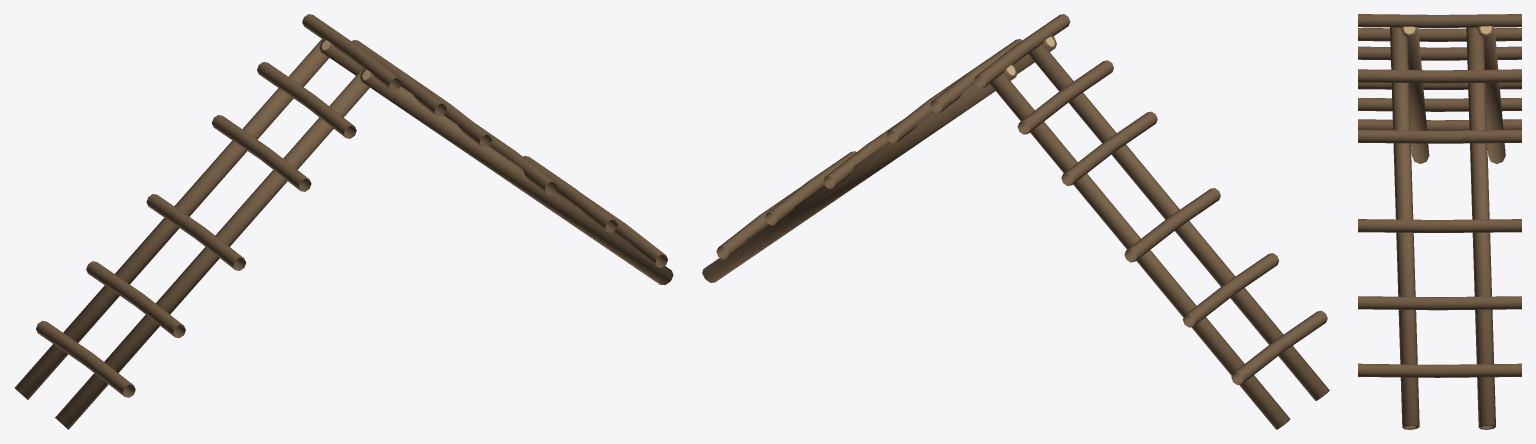
Rendered from rpgpp_ag_roof_support_01_9x4x3_roof_01b.fbx.
3 renders of one model, left to right at view 1: azimuth 30°, elevation 25°; view 2: azimuth 150°, elevation 25°; view 3: azimuth 270°, elevation 25°, orthographic. The views are drawn at different scales.
Parts seen in each view (by area): view 1: rpgpp_ag_roof_support_01_9x4x3_roof_01b; view 2: rpgpp_ag_roof_support_01_9x4x3_roof_01b; view 3: rpgpp_ag_roof_support_01_9x4x3_roof_01b.
Part boxes in pixels (left/top/right/bottom): rpgpp_ag_roof_support_01_9x4x3_roof_01b: left=14, top=14, right=673, bottom=429; rpgpp_ag_roof_support_01_9x4x3_roof_01b: left=702, top=14, right=1329, bottom=429; rpgpp_ag_roof_support_01_9x4x3_roof_01b: left=1358, top=14, right=1521, bottom=429.
Bounding box in the file's own units: 12.15 × 5.77 × 3.
